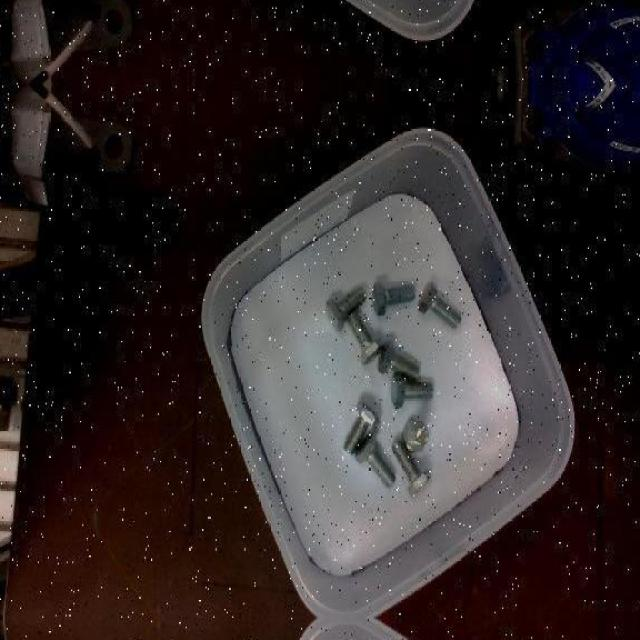screw: (391, 438, 431, 496), (354, 432, 396, 487), (417, 281, 461, 330), (346, 309, 384, 364), (342, 402, 380, 456), (377, 338, 420, 382), (326, 287, 366, 331), (390, 371, 433, 408), (372, 280, 416, 316), (401, 416, 428, 451)
